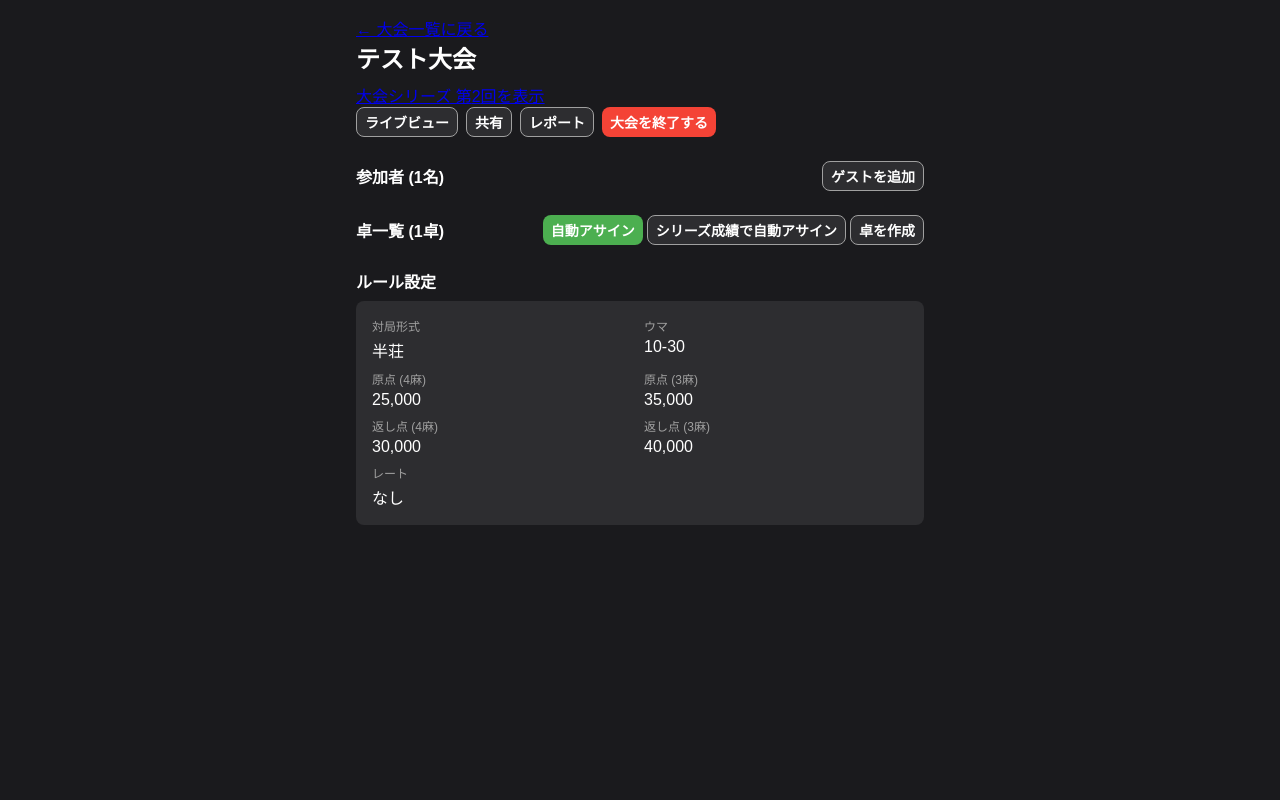
Test: CompetitionDashboardPage auto assignment › offers previous series standings only for the first assignment of a linked competition
Click the button "シリーズ成績で自動アサイン".
click(746, 230)  # box [647, 215, 846, 245]
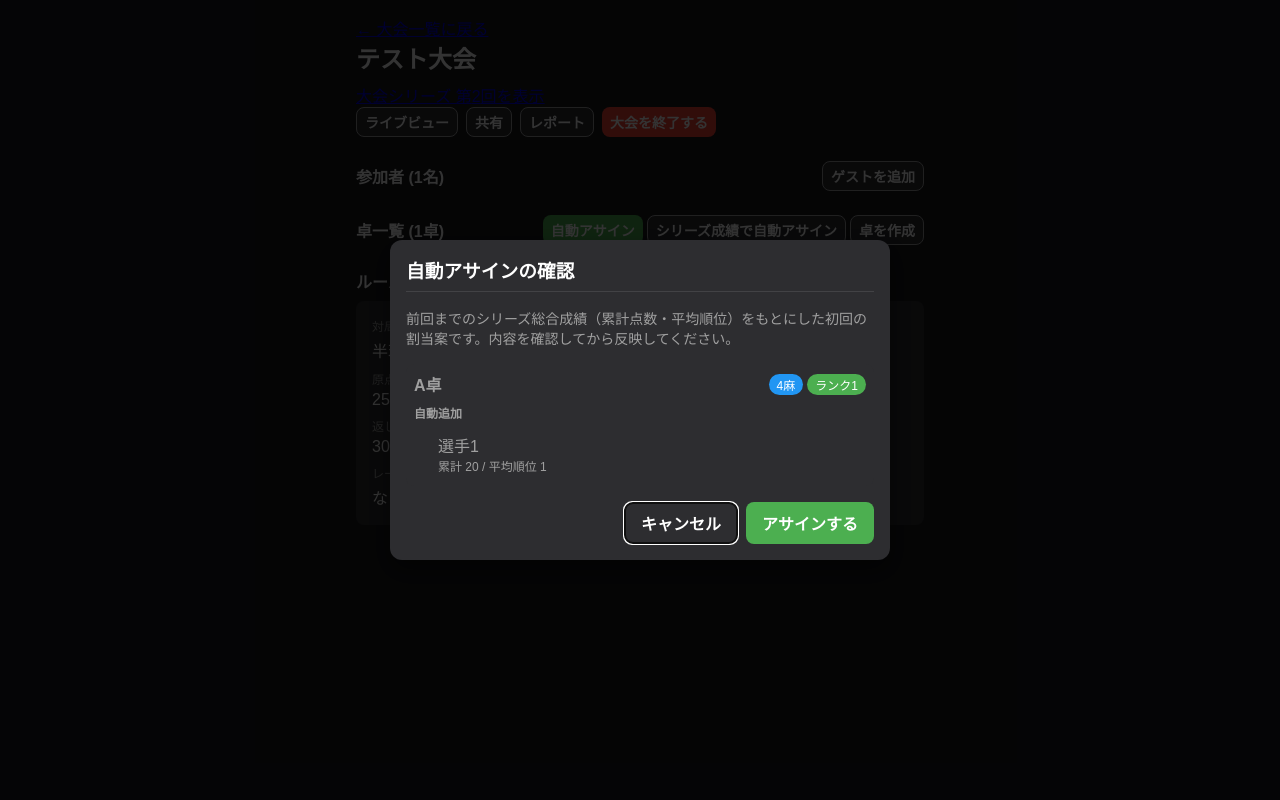
Check: the text "前回までのシリーズ総合成績（累計点数・平均順位）をもとにした初回の割当案です。内容を確認してから反映してください。" is shown, box [406, 308, 874, 348]
